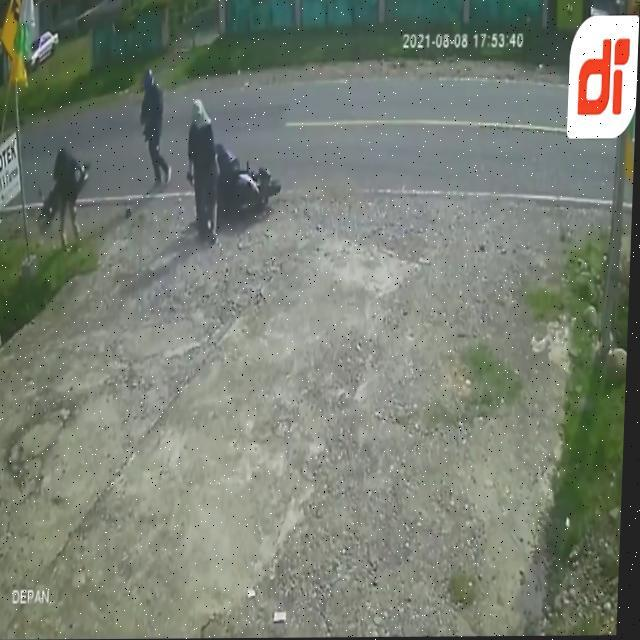multiple_accident: (37, 55, 309, 260)
